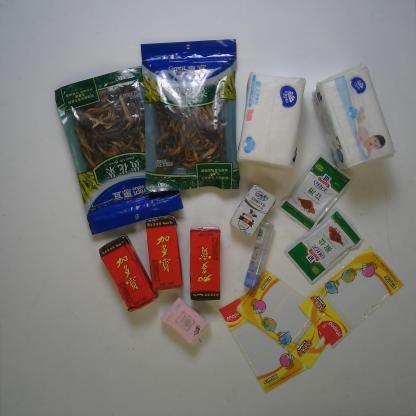Dried Food: (54, 65, 184, 236), (140, 39, 241, 193)
Drink: (98, 235, 159, 313), (145, 215, 184, 292), (189, 226, 221, 301)
Milk: (229, 183, 277, 238)
Seasoner: (284, 207, 364, 285), (277, 154, 353, 232)
Stationery: (298, 244, 404, 348), (218, 289, 310, 394), (235, 268, 330, 369), (244, 220, 275, 290)
Tissue: (311, 63, 396, 171), (237, 71, 306, 174), (160, 296, 212, 348)
